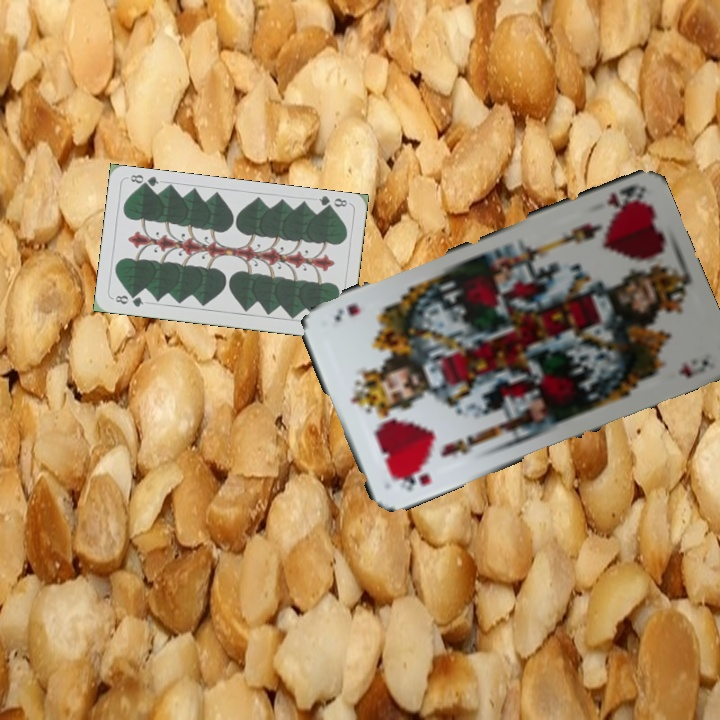G8: (315, 192, 350, 214), (111, 291, 146, 310)
HK: (603, 181, 645, 212), (389, 465, 433, 494)
